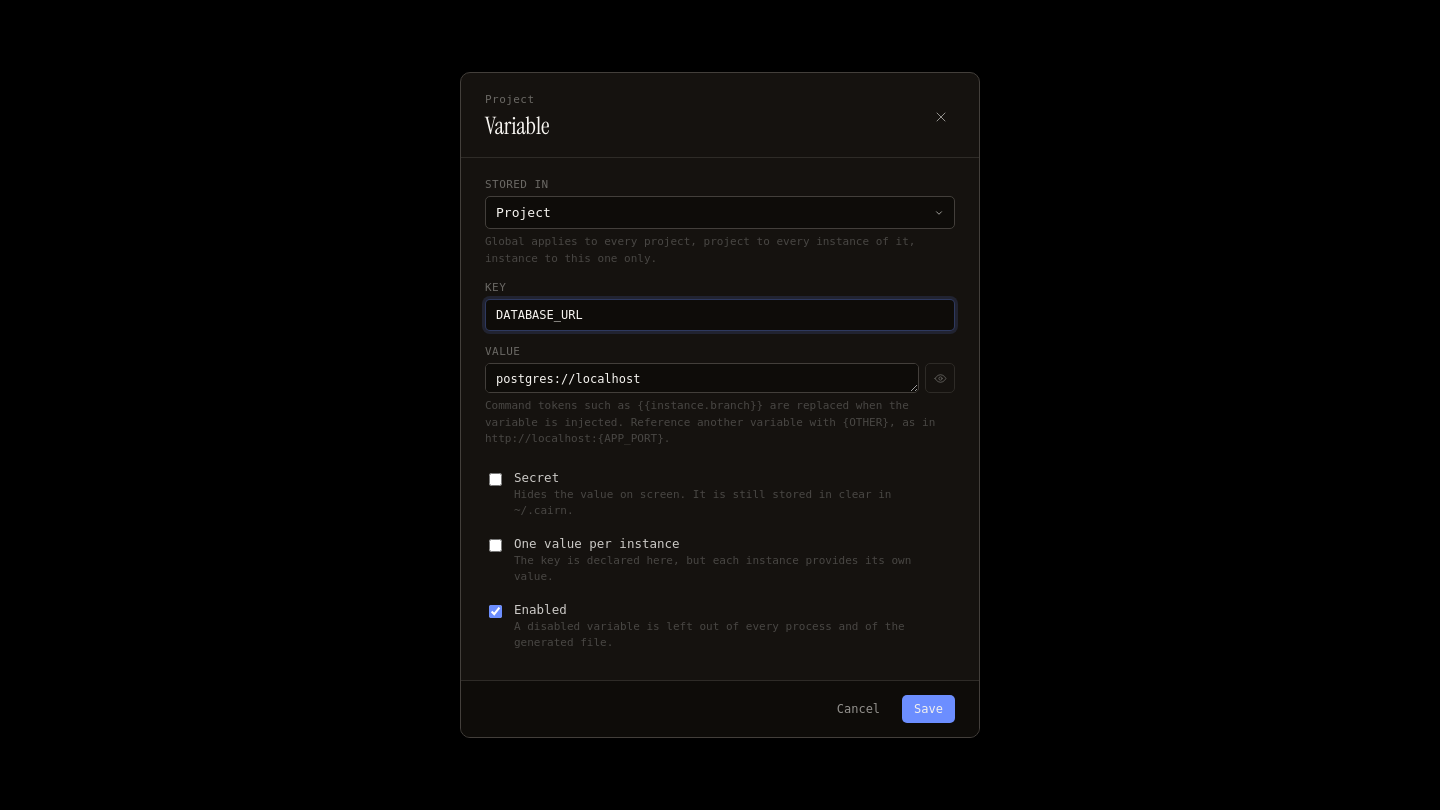
EnvEditor › the key it accepts › says nothing about an empty key, but refuses to save it
Clear the field with class "mono" showing "Key": {"x": 720, "y": 315} x1=485 y1=299 x2=955 y2=331
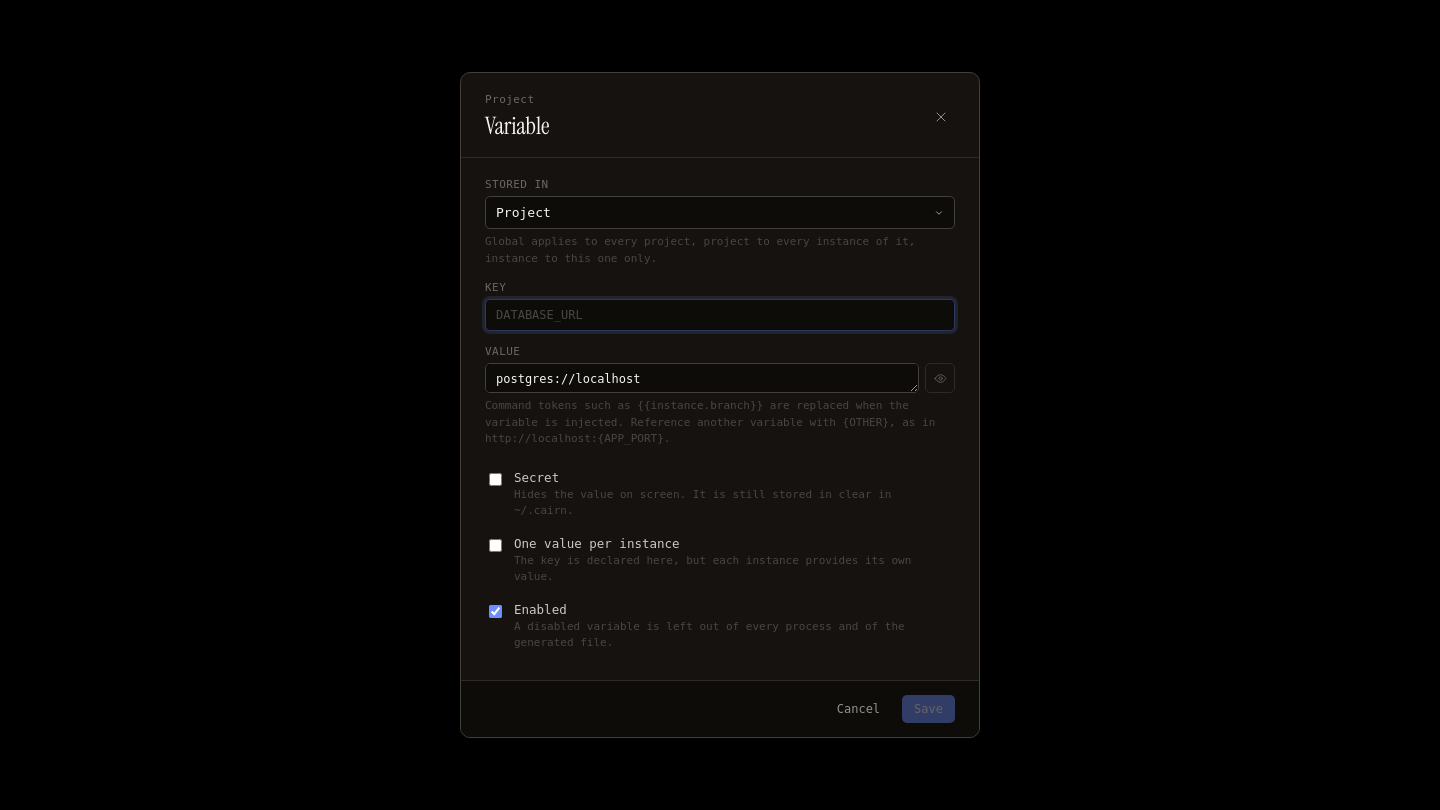
Check: the button "Save" is disabled, box x1=902 y1=695 x2=955 y2=723
